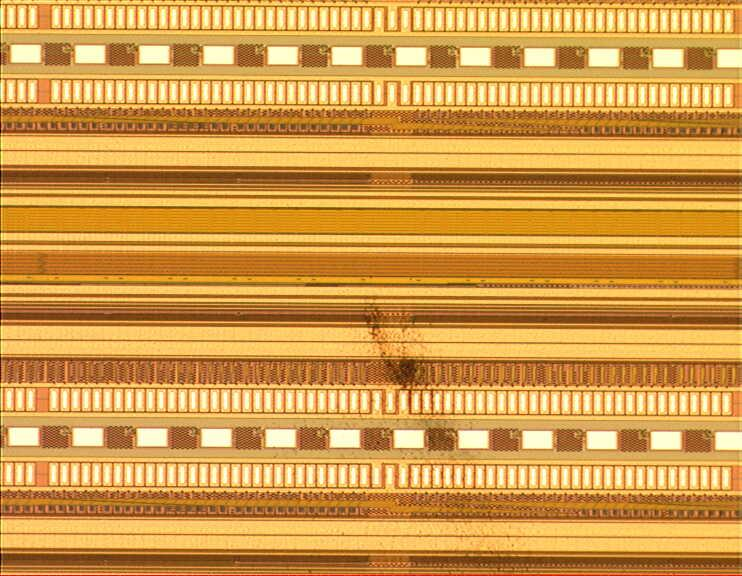PO CONTAMINATION: (360, 294, 544, 576)
